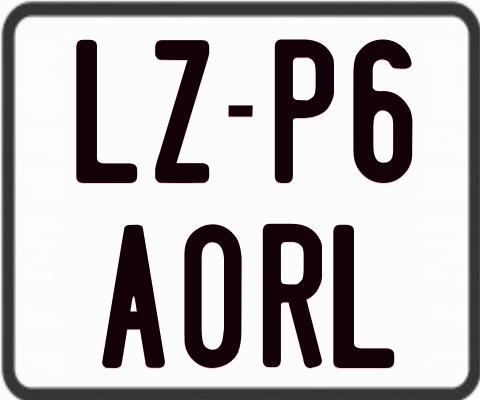0: (181, 223, 242, 368)
6: (351, 38, 413, 187)
A: (102, 224, 171, 368)
L: (333, 222, 396, 367), (75, 40, 136, 183)
P: (273, 38, 332, 182)
R: (263, 223, 328, 372)
Z: (152, 39, 206, 182)
